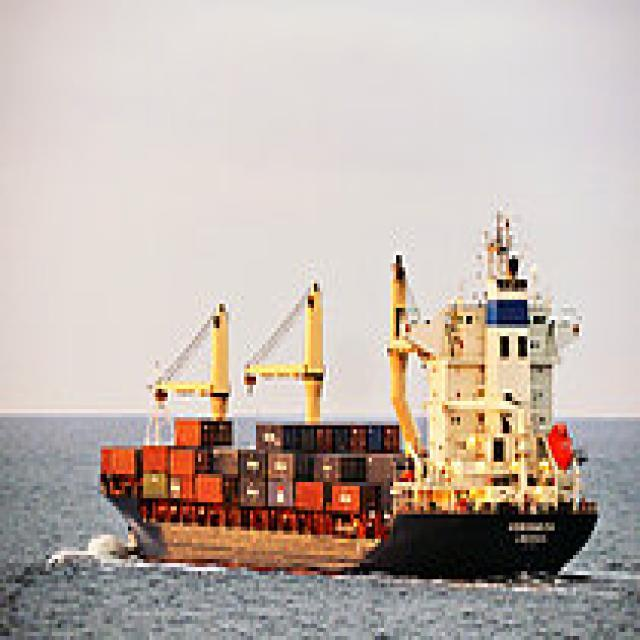Ship: (87, 196, 611, 593)
